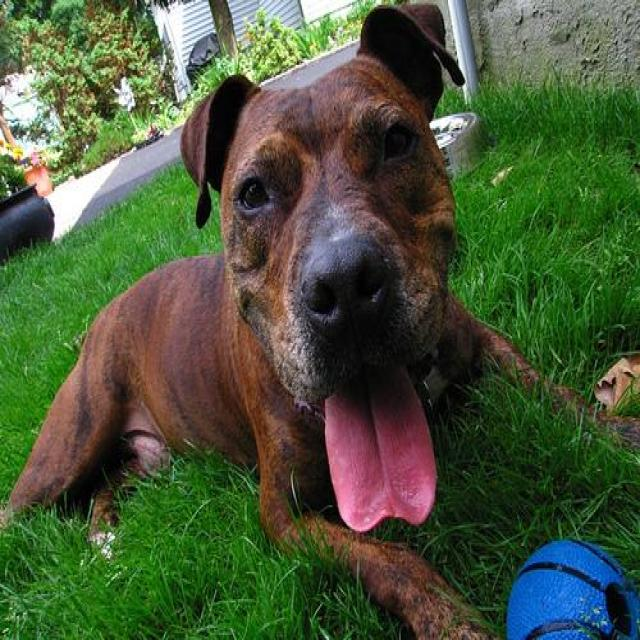happy: (163, 31, 527, 577)
